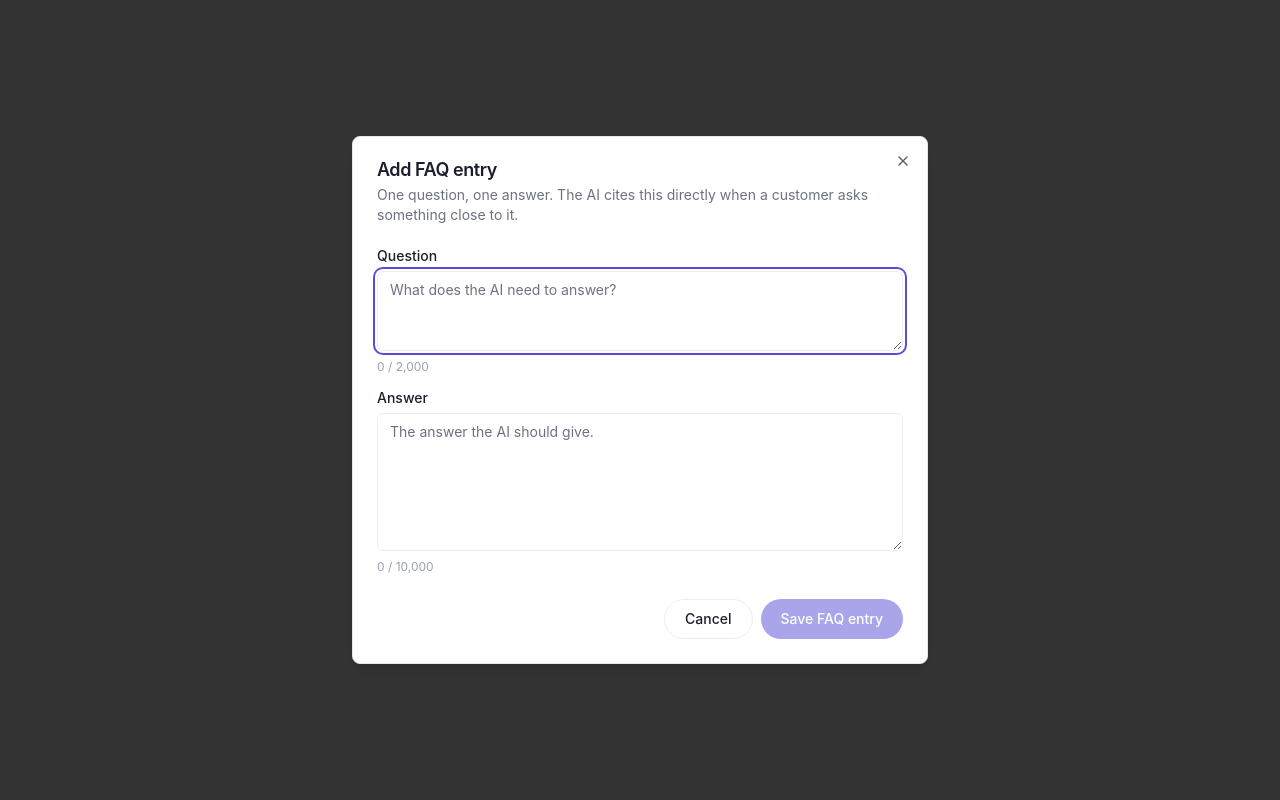
Test case: AddFaqDialog — KAN-XXX › Test 5 — server status='error' surfaces errorDetail inline (no toast)
Type "Q?" into the text box labelled "Question" at (640, 311), box [377,271,903,351]
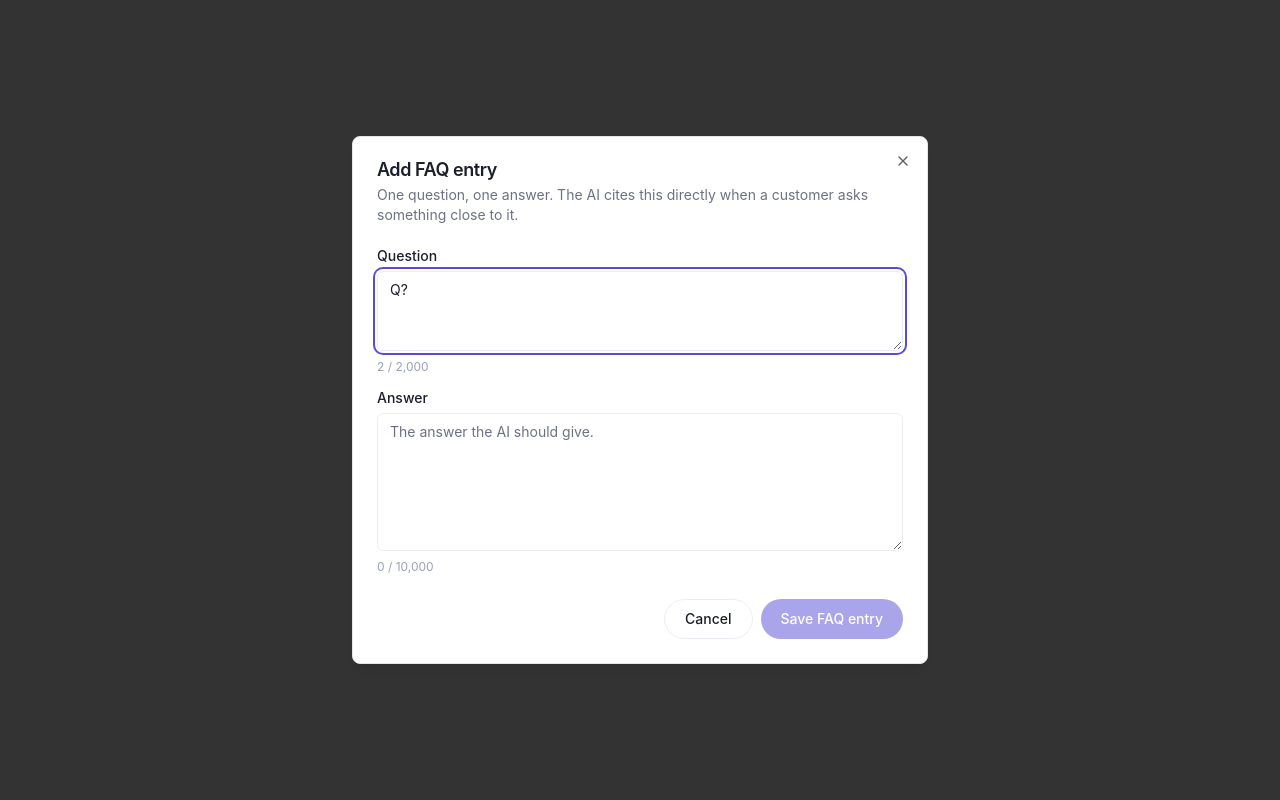
Type "A." into the text box labelled "Answer" at (640, 482), box [377,413,903,551]
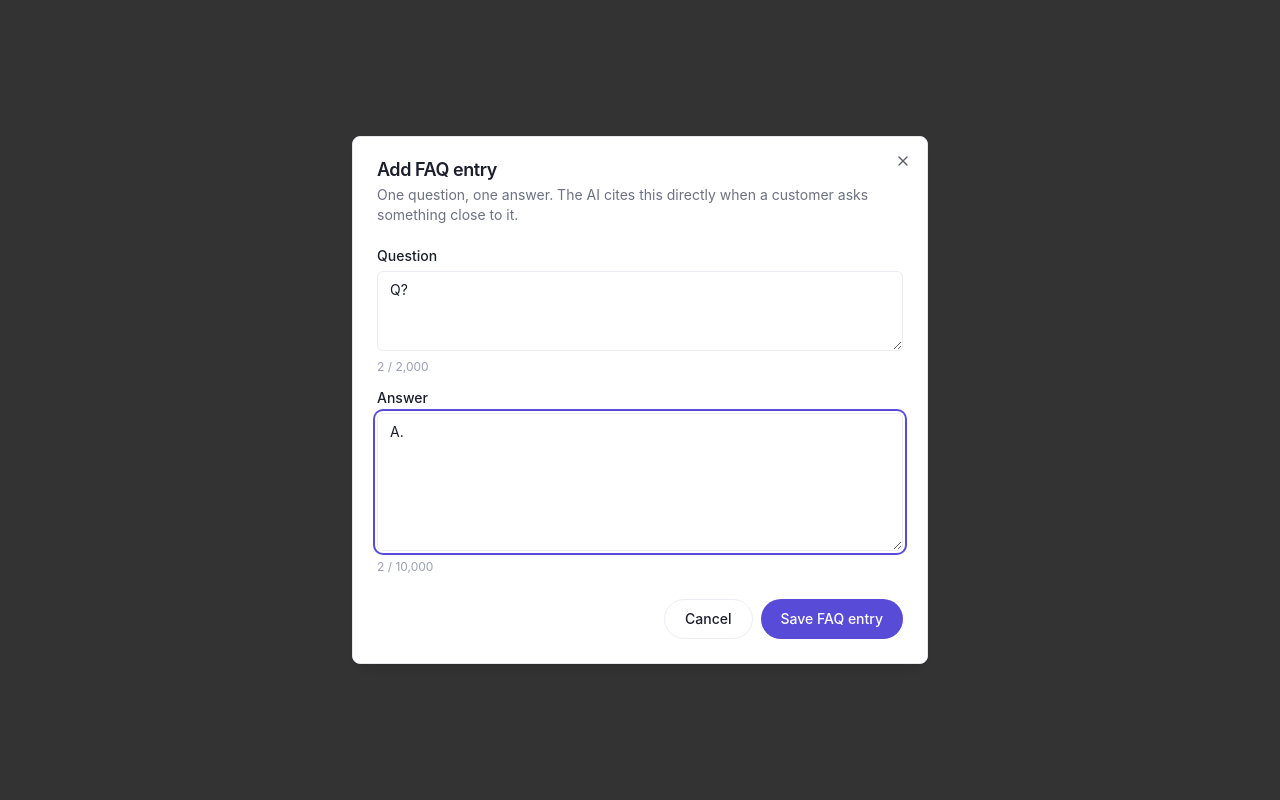
Click the button "Save FAQ entry" at (832, 619), box [760,599,903,639]
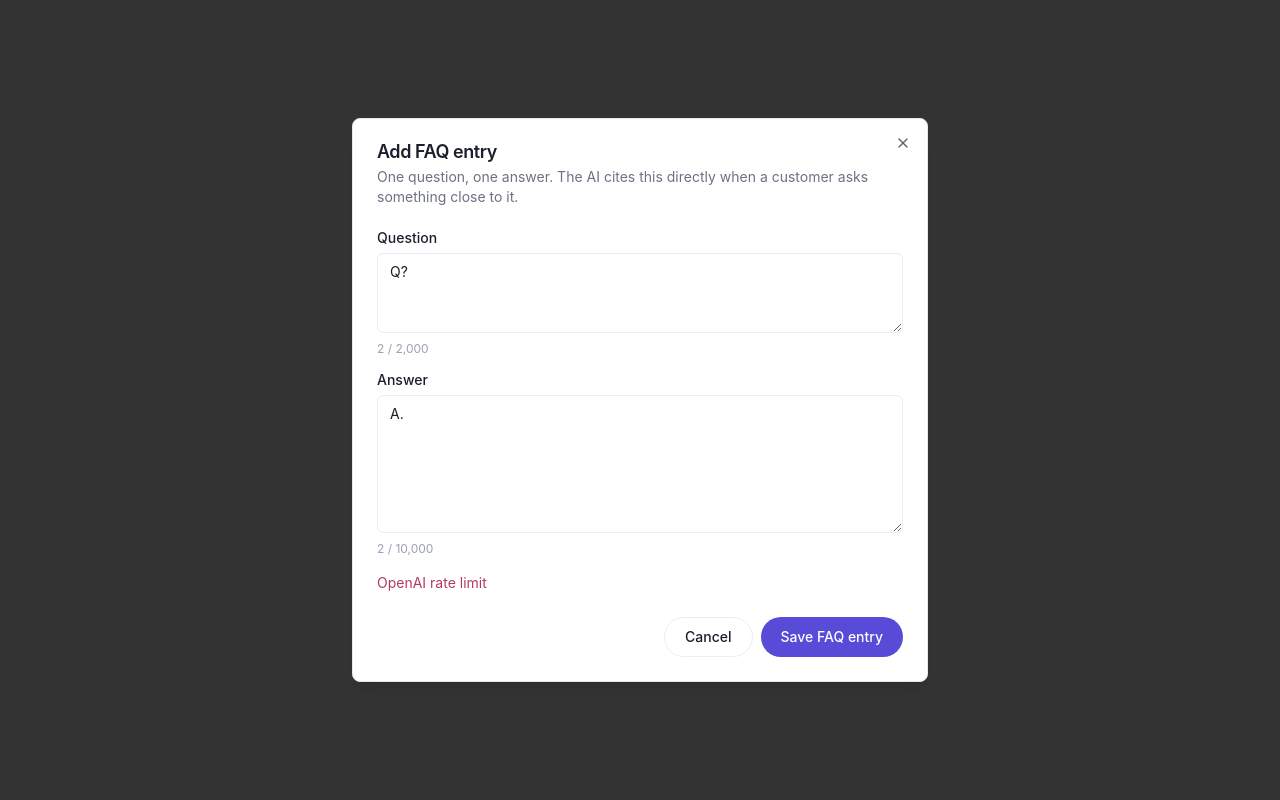
expect the message reads "OpenAI rate limit": met, box [377,574,487,591]
